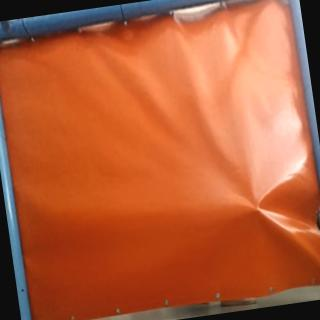Hit-hRxx: (250, 202, 268, 218)
